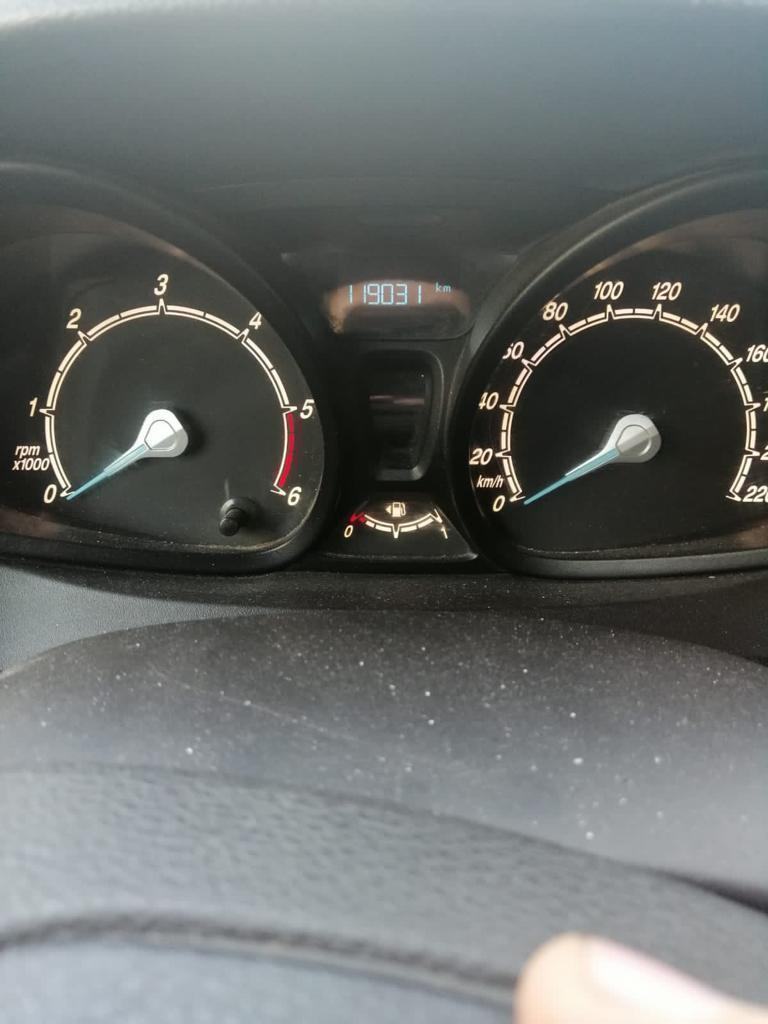0: (380, 282, 394, 305)
1: (416, 282, 424, 305), (348, 283, 354, 305), (363, 283, 366, 304)
3: (395, 283, 408, 305)
9: (367, 283, 380, 305)
X: (434, 280, 442, 293), (442, 284, 451, 293)
odometer: (334, 256, 461, 330)
